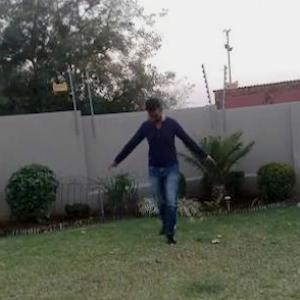land: (98, 98, 213, 250)
